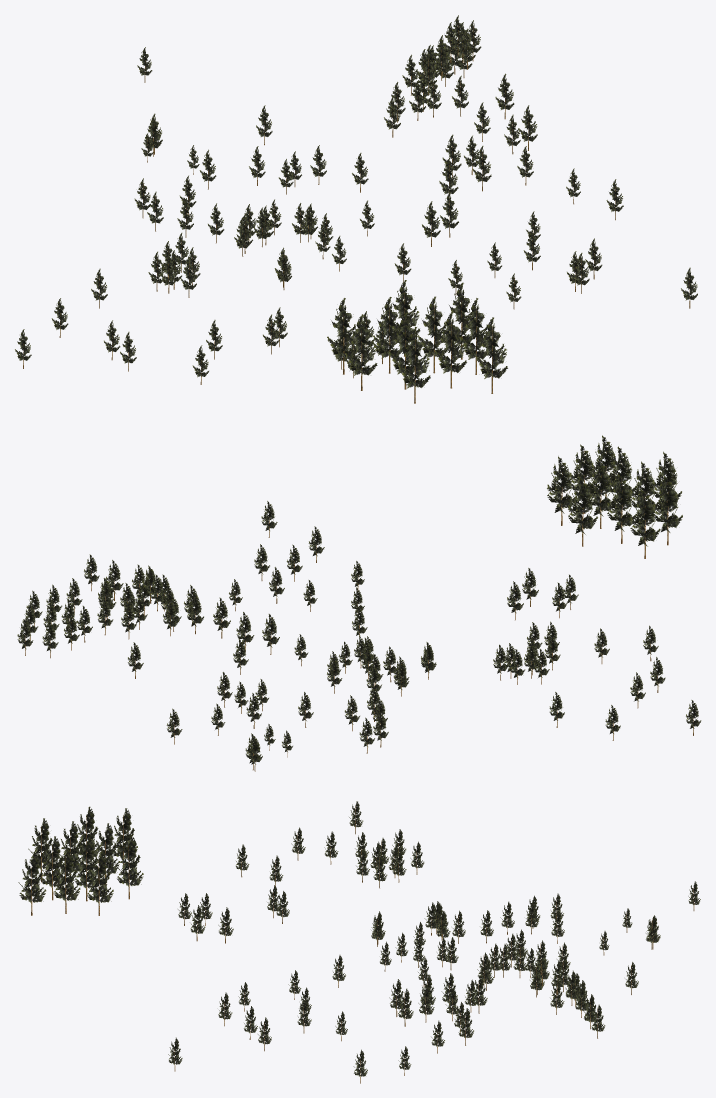
The model's file is Trees Forest.fbx.
3 views of the same model, one above another, from view 1: azimuth 30°, elevation 25°; view 2: azimuth 150°, elevation 25°; view 3: azimuth 270°, elevation 25° (orthographic). The views are drawn at different scales.
Visible parts, largest first — view 1: polySurface1009, polySurface1802, polySurface1839, polySurface514, polySurface241, polySurface447, polySurface79, polySurface1684, polySurface94, polySurface676, polySurface1393, polySurface1963 (+4 smaller); view 2: polySurface1009, polySurface1802, polySurface1839, polySurface241, polySurface514, polySurface447, polySurface1684, polySurface676, polySurface1393, polySurface151, polySurface94, polySurface703 (+4 smaller); view 3: polySurface1009, polySurface1802, polySurface1839, polySurface241, polySurface514, polySurface447, polySurface1963, polySurface1393, polySurface79, polySurface151, polySurface703, polySurface94 (+5 smaller).
Boxes of the visible parts, left/top/right/bottom form: polySurface1009: left=331, top=280, right=507, bottom=403; polySurface1802: left=415, top=15, right=481, bottom=87; polySurface1839: left=384, top=54, right=441, bottom=137; polySurface514: left=134, top=149, right=224, bottom=243; polySurface241: left=148, top=233, right=200, bottom=297; polySurface447: left=15, top=268, right=136, bottom=371; polySurface79: left=495, top=73, right=537, bottom=185; polySurface1684: left=249, top=145, right=368, bottom=194; polySurface94: left=439, top=134, right=491, bottom=194; polySurface676: left=234, top=199, right=281, bottom=256; polySurface1393: left=137, top=47, right=272, bottom=174; polySurface1963: left=292, top=203, right=346, bottom=271; polySurface1009: left=547, top=435, right=682, bottom=558; polySurface1802: left=17, top=554, right=113, bottom=658; polySurface1839: left=121, top=567, right=178, bottom=678; polySurface241: left=493, top=634, right=560, bottom=684; polySurface514: left=298, top=686, right=388, bottom=753; polySurface447: left=549, top=657, right=701, bottom=740; polySurface1684: left=217, top=639, right=268, bottom=728; polySurface676: left=361, top=646, right=409, bottom=699; polySurface1393: left=166, top=703, right=292, bottom=771; polySurface151: left=507, top=568, right=578, bottom=620; polySurface94: left=169, top=585, right=230, bottom=638; polySurface703: left=527, top=621, right=658, bottom=663; polySurface1009: left=18, top=806, right=143, bottom=915; polySurface1802: left=535, top=940, right=605, bottom=1038; polySurface1839: left=488, top=929, right=564, bottom=1014; polySurface241: left=355, top=832, right=406, bottom=888; polySurface514: left=480, top=893, right=564, bottom=943; polySurface447: left=291, top=801, right=424, bottom=874; polySurface1963: left=380, top=922, right=458, bottom=971; polySurface1393: left=599, top=881, right=700, bottom=994; polySurface79: left=431, top=975, right=487, bottom=1053; polySurface151: left=178, top=893, right=233, bottom=943; polySurface703: left=236, top=844, right=289, bottom=923; polySurface94: left=418, top=973, right=459, bottom=1022.
Size of the model in its own units: 36240 by 8199 by 40674.
2 materials, 2 textured.
